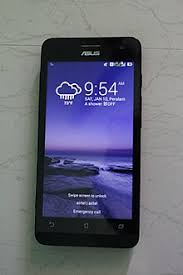asus: (33, 34, 143, 250)
